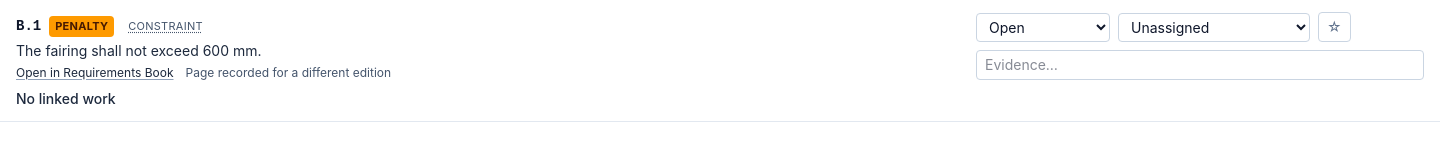
Test case: label explanations › shows the explanation on keyboard focus and hover, not only on a tap
Press Tab
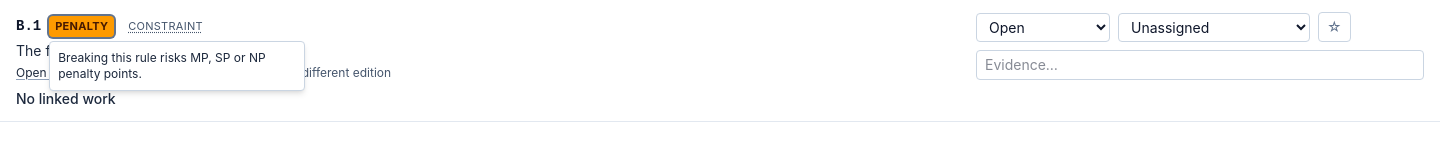
Expected: the text with test id "criticality-B.1-explanation" shows "penalty points", [58,50,266,80]
Press Tab
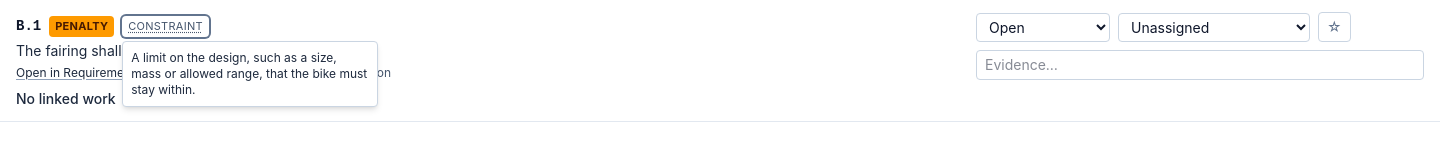
Hover over the button with test id "criticality-B.1" at {"x": 82, "y": 26}, box [49,16,114,36]
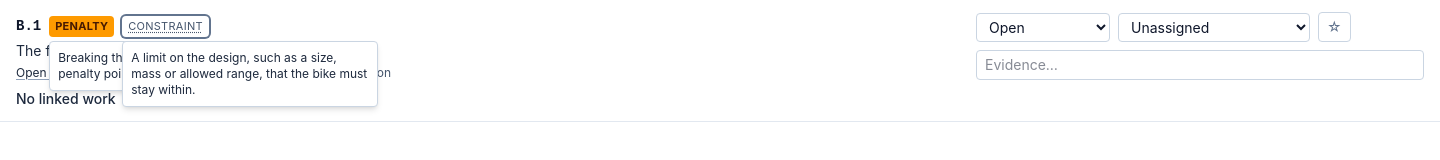
Expected: the text "Breaking this rule risks MP, SP or NP penalty points." is shown, [49,40,305,90]
